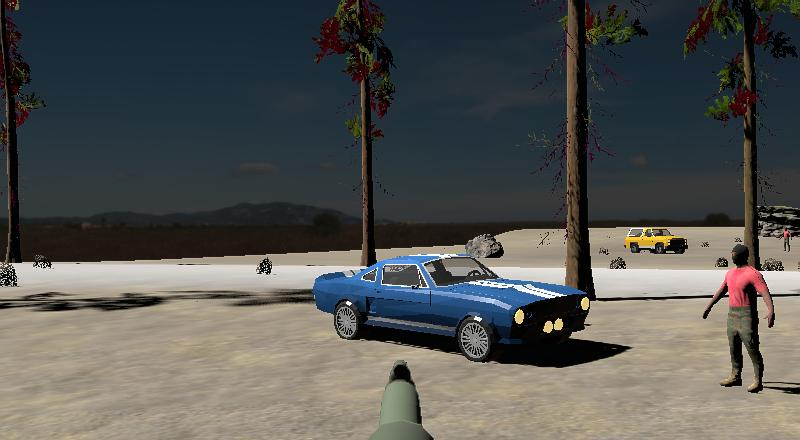Human: (699, 242, 779, 395), (778, 225, 795, 254)
car: (310, 247, 594, 364), (622, 224, 691, 258)
